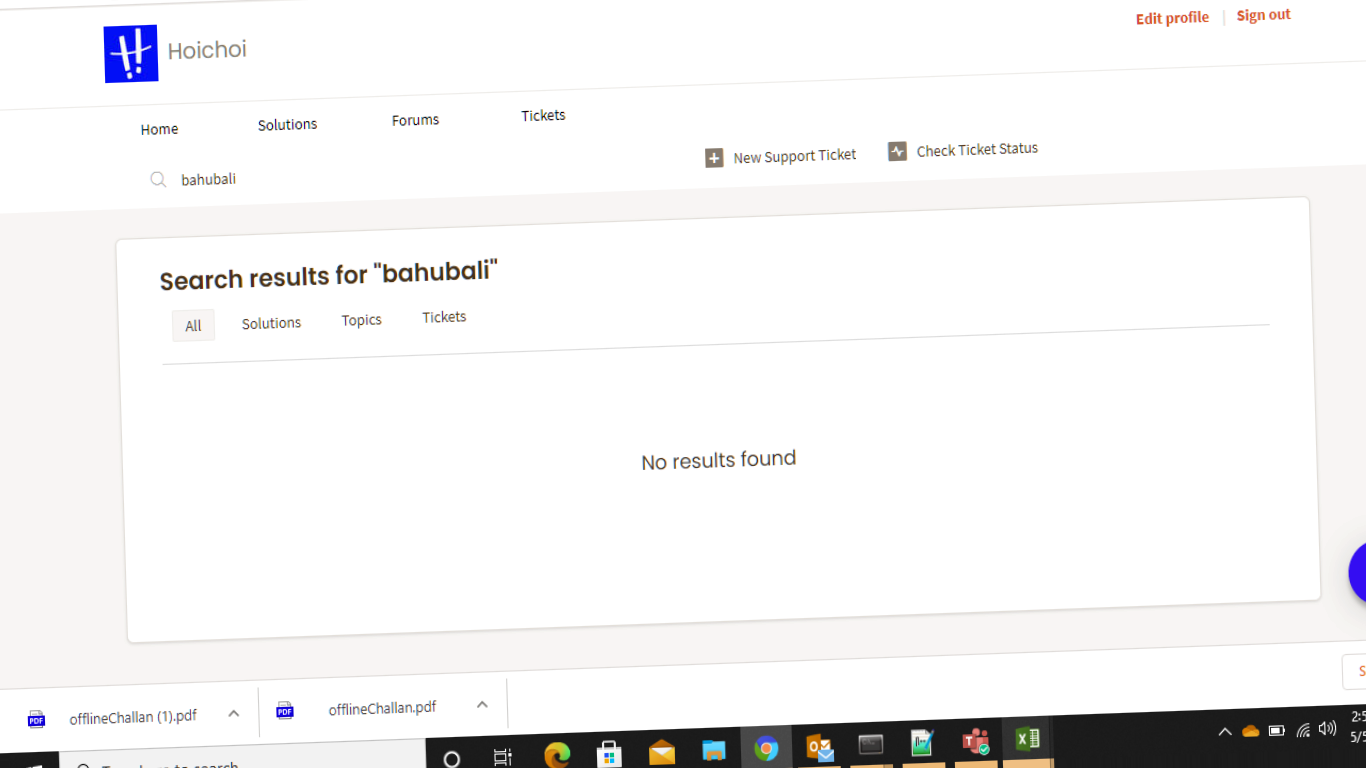noresultsfound: (592, 419, 874, 508)
profileicon: (1114, 1, 1218, 37)
searchicon: (143, 168, 175, 196)
searchtextbox: (134, 148, 586, 223)
